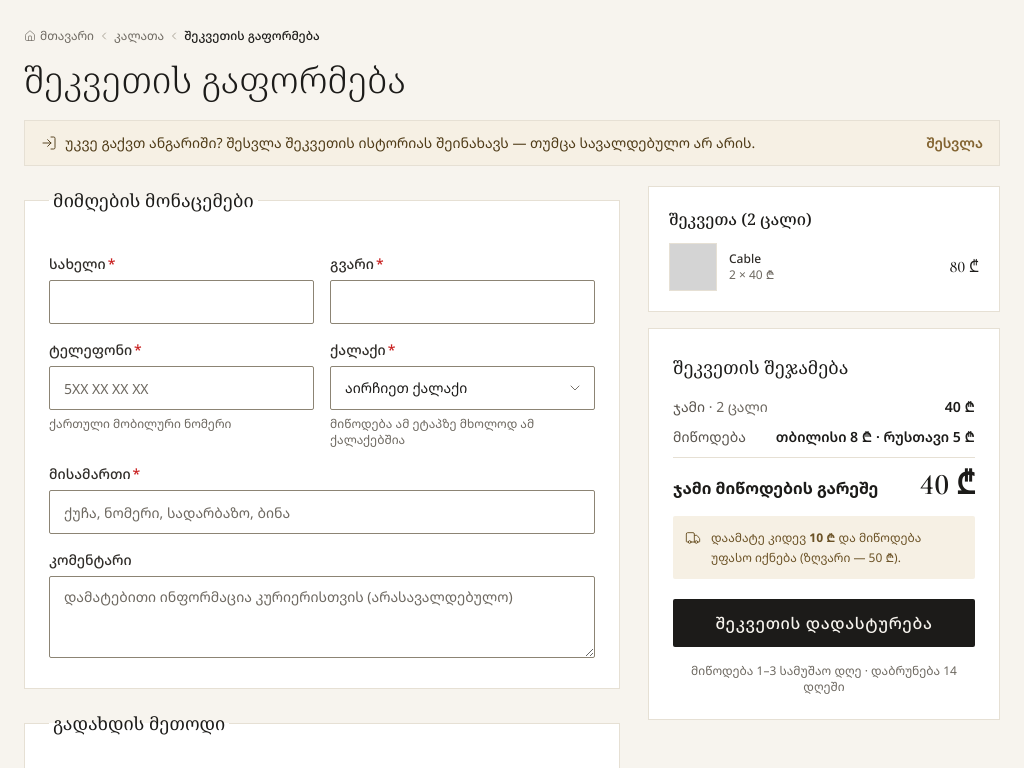
Scenario: the delivery fee before ordering › charges თბილისი its fee below the threshold
Expected: the text "მიწოდება" shows "თბილისი 8 ₾ · რუსთავი 5 ₾", [776,427,975,446]
Expected: the text "ჯამი მიწოდების გარეშე" is shown, [673,476,878,500]
Select "თბილისი — 8 ₾" in the dropdown labelled "ქალაქი*" at (462, 388), box [330,366,595,410]
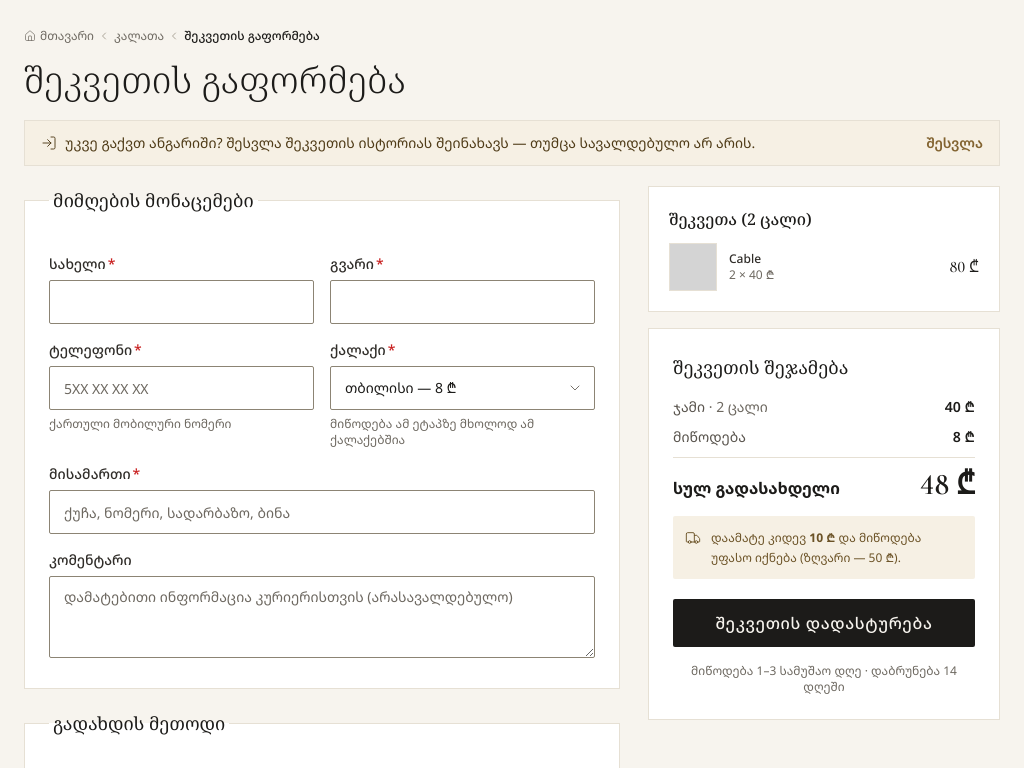
Expected: the text "მიწოდება" shows "8 ₾", [953,427,975,446]
Result: the text "სულ გადასახდელი" shows "48 ₾" at [920,466,975,503]
